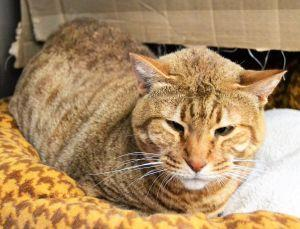bengal: (128, 47, 291, 200)
